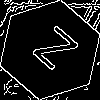Z: (25, 25, 79, 79)
